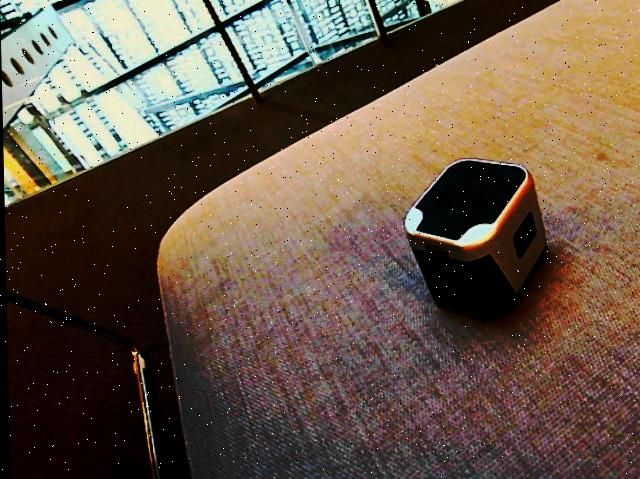adapter: (401, 157, 548, 321)
